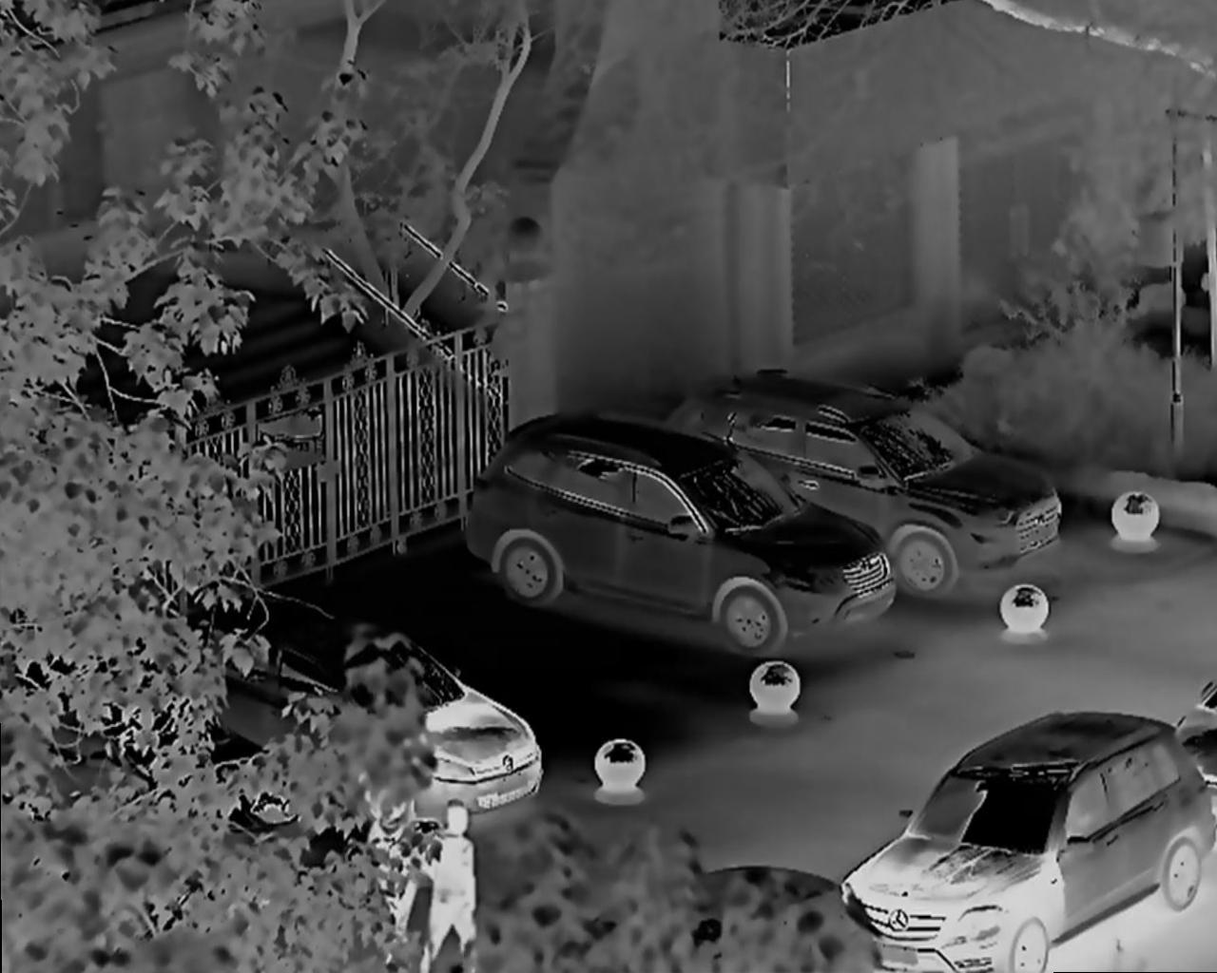person: (421, 795, 486, 958)
